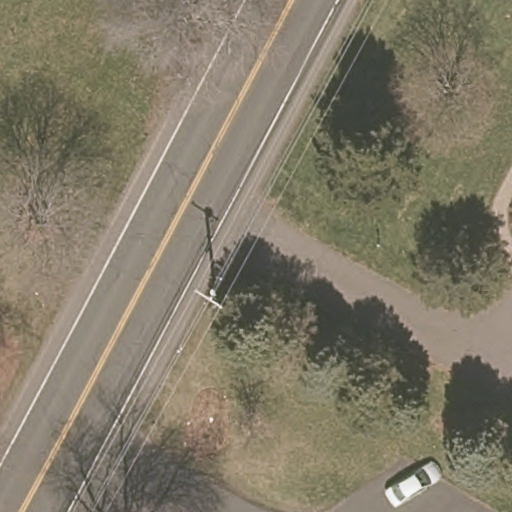DT: (193, 286, 226, 311)
